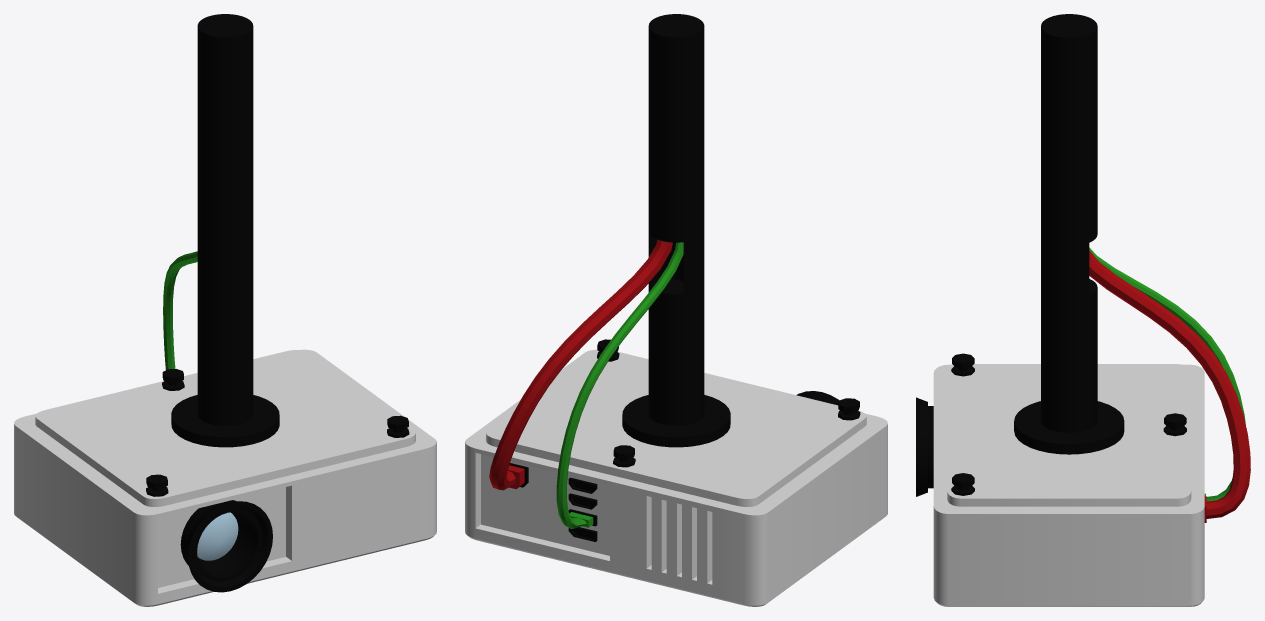
Rendered from projector.fbx.
3 renders of one model, left to right at view 1: azimuth 30°, elevation 25°; view 2: azimuth 150°, elevation 25°; view 3: azimuth 270°, elevation 25°, orthographic.
Parts seen in each view (by area): view 1: Main Case, Pole, Lens, Foot, Cable.2; view 2: Main Case, Pole, Cable.1, Cable.2, Port, Foot; view 3: Main Case, Pole, Cable.1, Cable.2, Lens, Foot.
Boxes of the visible parts, x1,y1,x2,y2 form: Main Case: [14, 349, 436, 606]; Pole: [171, 14, 279, 447]; Lens: [180, 500, 272, 592]; Foot: [146, 369, 409, 496]; Cable.2: [163, 251, 197, 369]; Main Case: [465, 349, 887, 606]; Pole: [622, 14, 730, 447]; Cable.1: [489, 239, 672, 490]; Cable.2: [556, 242, 683, 528]; Port: [509, 463, 597, 541]; Foot: [597, 339, 860, 467]; Main Case: [933, 364, 1204, 606]; Pole: [1014, 14, 1124, 454]; Cable.1: [1089, 250, 1250, 518]; Cable.2: [1089, 247, 1245, 501]; Lens: [916, 397, 933, 496]; Foot: [951, 353, 1186, 495].
Bounding box in the file's own units: 48 × 76.47 × 45.47.
